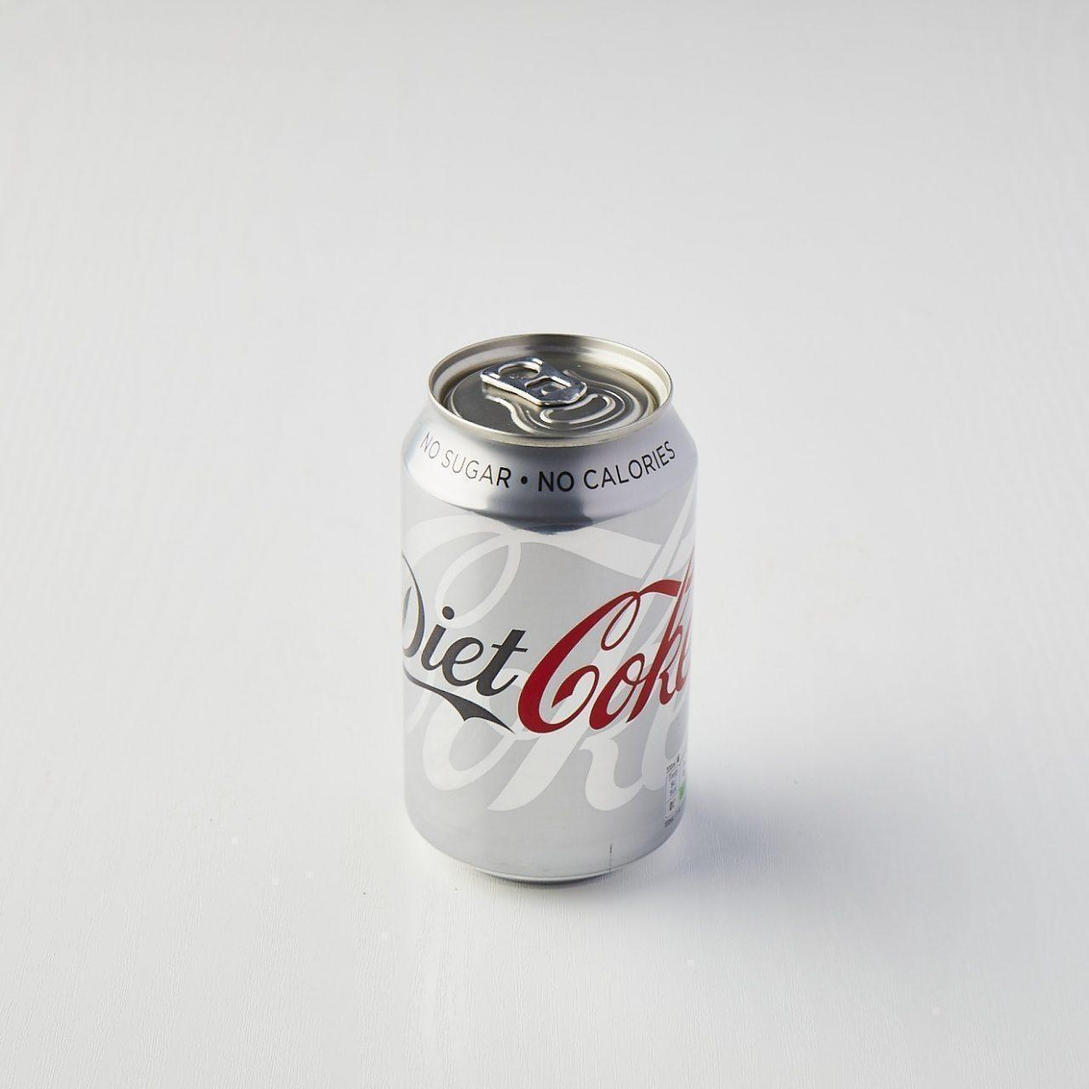tin can: (396, 328, 702, 887)
